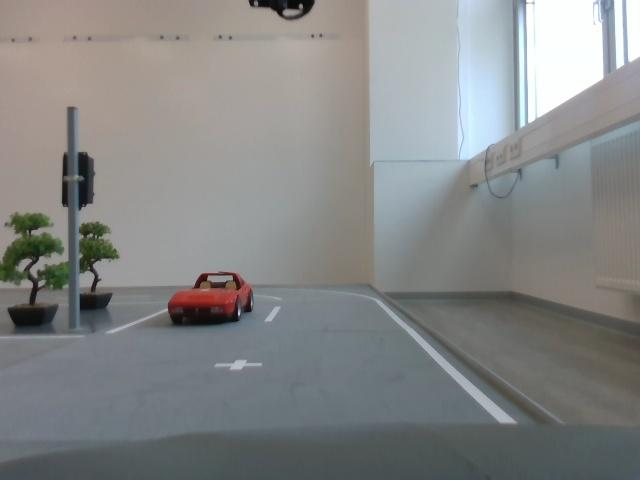car: (162, 264, 258, 330)
potted plant: (2, 212, 69, 330), (61, 215, 126, 313)
traffic light: (63, 149, 98, 210)
